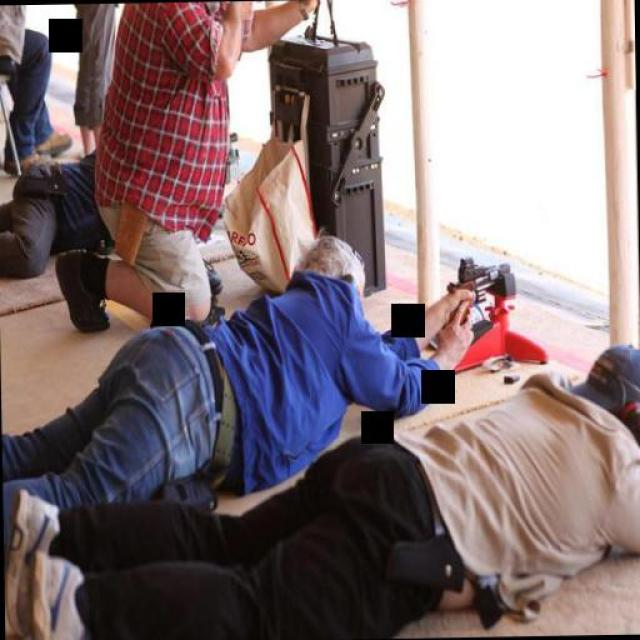gun: (439, 250, 516, 304)
